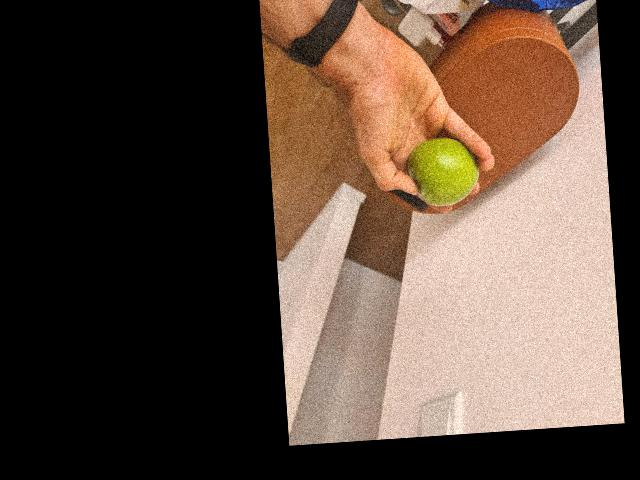apple: (403, 138, 487, 203)
